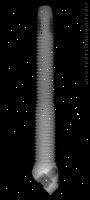Neodent: (28, 4, 59, 194)
